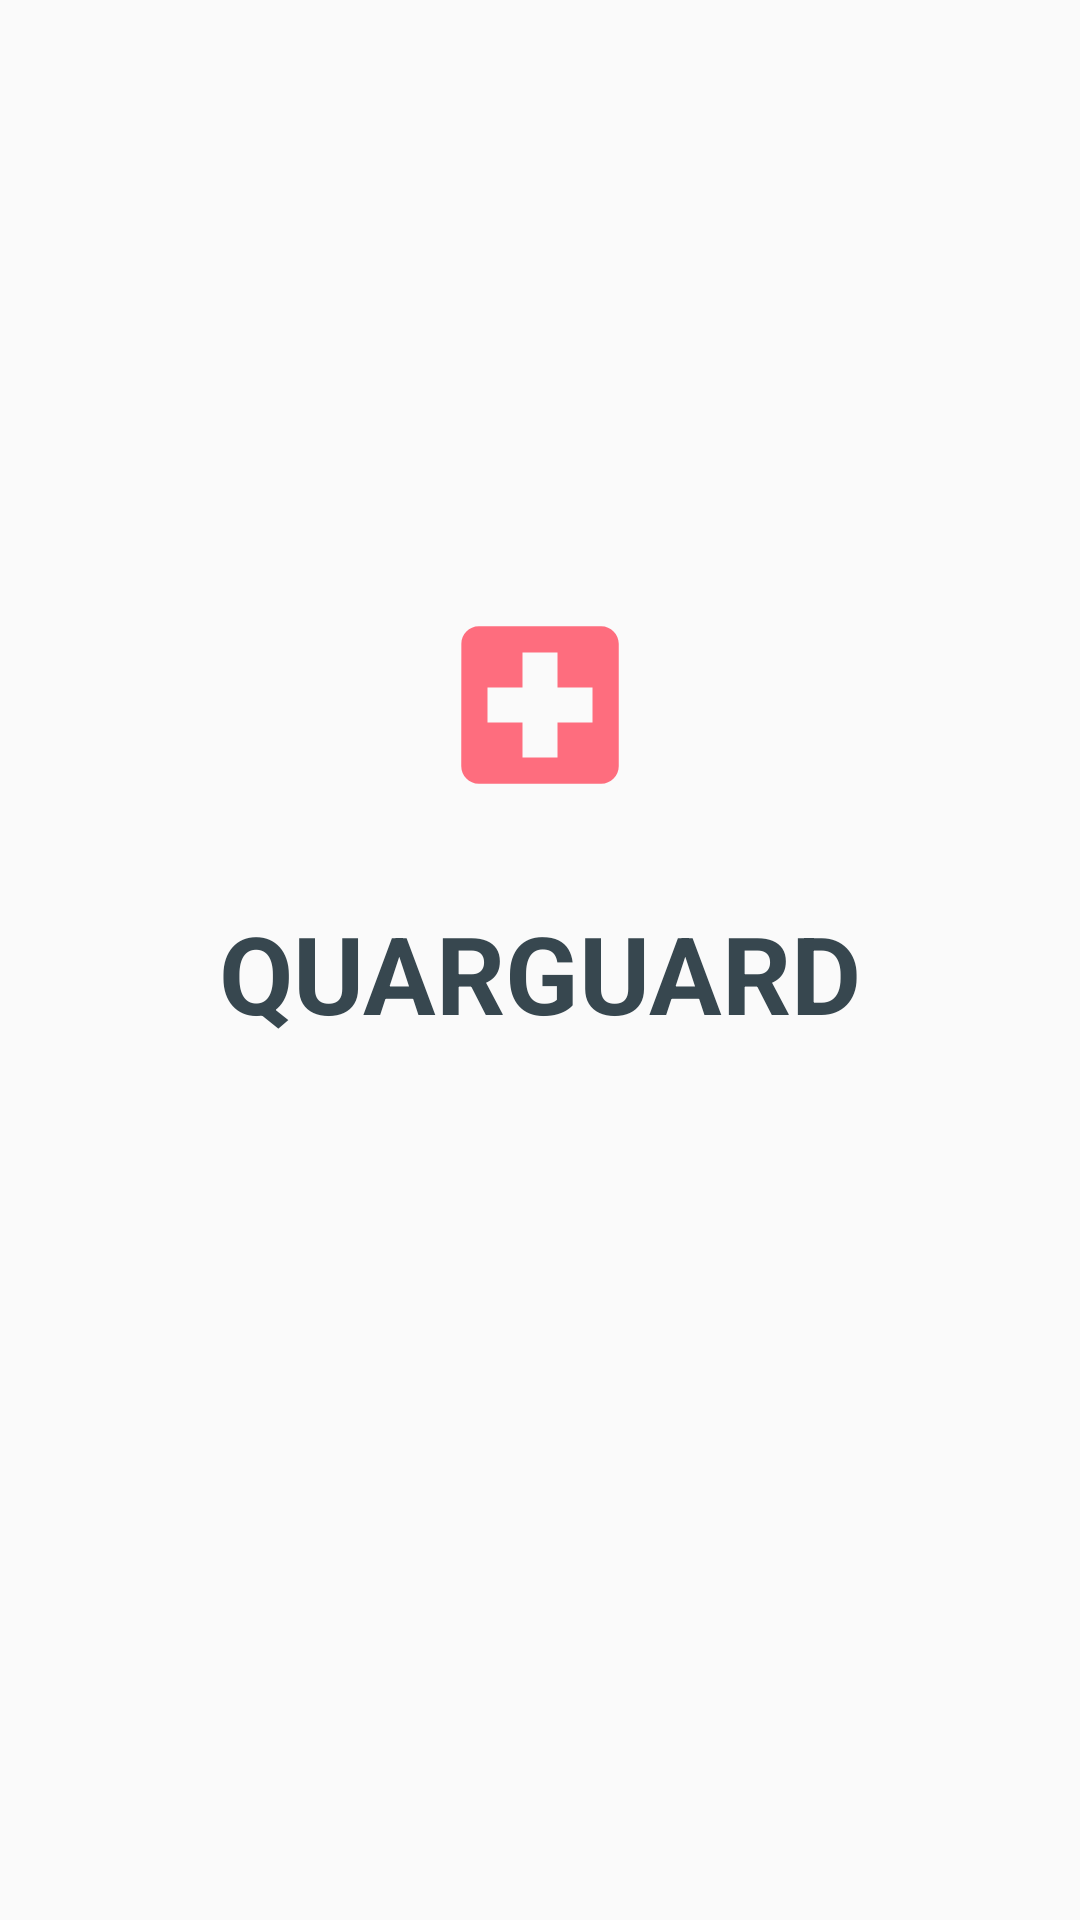

Where to tap for icons on this 1080w x 1920h app screen, as [x,y]:
local hospital: [540,705]
